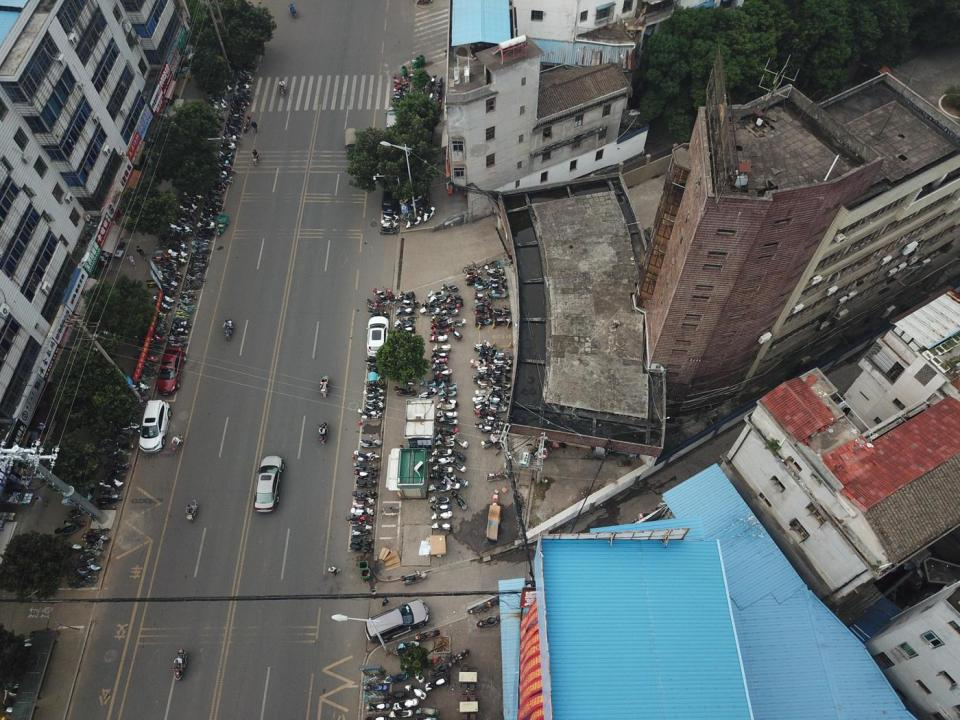car: (365, 599, 428, 644), (255, 455, 285, 514), (138, 400, 171, 453), (157, 346, 187, 394), (367, 316, 392, 356), (386, 106, 406, 138)
van: (380, 178, 400, 214)
